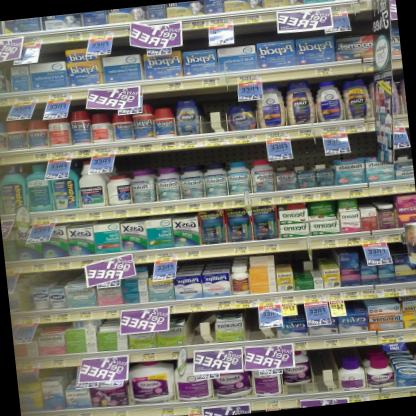empty_space: (310, 346, 339, 392), (242, 306, 277, 341), (183, 310, 215, 345)
